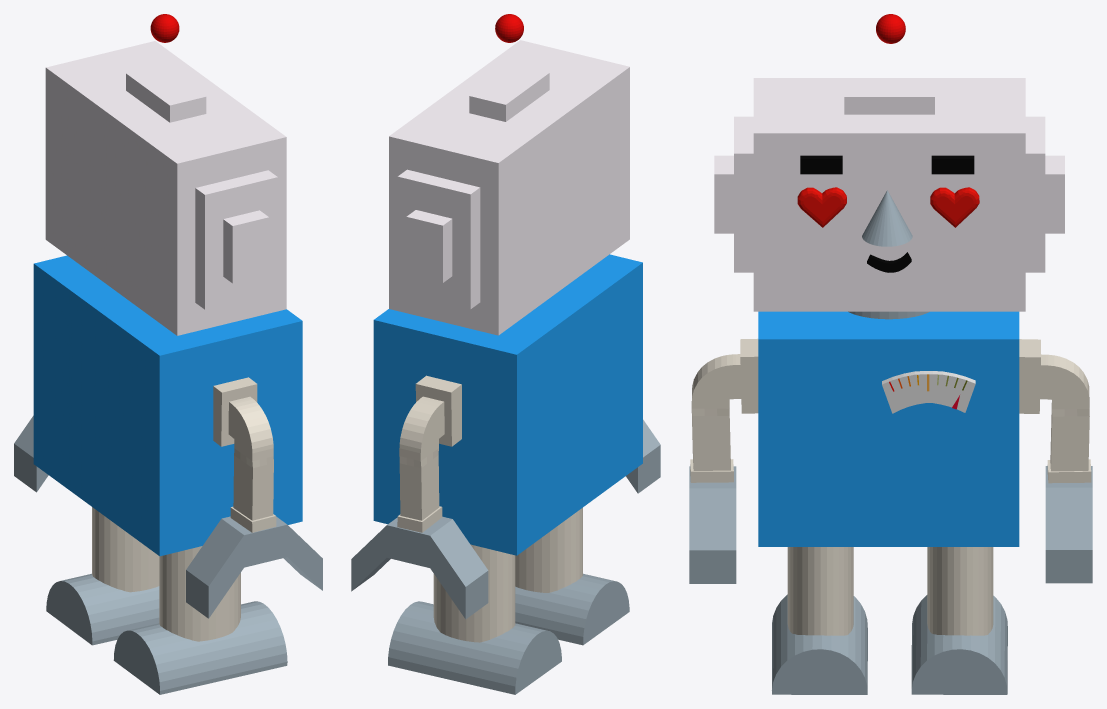
The model's file is robot3d.glb.
3 views of the same model, side by side, from view 1: azimuth 30°, elevation 25°; view 2: azimuth 150°, elevation 25°; view 3: azimuth 270°, elevation 25° (orthographic). The views are drawn at different scales.
Visible parts, largest first — view 1: 頭.001, 身體.001, 頭, 身體, 右鞋子, 右手臂, 右手, 左鞋子, 右腳, 左腳, 左手, 彈簧球; view 2: 頭, 身體, 頭.001, 身體.001, 左鞋子, 右手臂.001, 左手, 右鞋子, 左腳, 右腳, 右手, 彈簧球; view 3: 頭, 頭.001, 身體.001, 身體, 右手臂.001, 左鞋子, 右鞋子, 右手臂, 右腳, 左腳, 右手, 左手 (+7 smaller).
Boxes of the visible parts, x1,y1,x2,y2 form: 頭.001: (111, 80, 286, 335); 身體.001: (96, 301, 302, 556); 頭: (45, 41, 220, 287); 身體: (33, 255, 129, 509); 右鞋子: (113, 601, 287, 694); 右手臂: (213, 377, 276, 532); 右手: (186, 516, 322, 618); 左鞋子: (46, 573, 159, 645); 右腳: (159, 546, 240, 641); 左腳: (92, 507, 159, 592); 左手: (14, 415, 48, 492); 彈簧球: (150, 14, 179, 42); 頭: (389, 80, 564, 335); 身體: (373, 300, 579, 555); 頭.001: (455, 40, 629, 286); 身體.001: (547, 254, 642, 509); 左鞋子: (388, 601, 561, 694); 右手臂.001: (397, 375, 461, 532); 左手: (351, 516, 488, 619); 右鞋子: (515, 573, 629, 645); 左腳: (433, 544, 515, 642); 右腳: (515, 507, 582, 592); 右手: (626, 419, 660, 493); 彈簧球: (495, 14, 523, 42); 頭: (889, 78, 1064, 311); 頭.001: (714, 78, 889, 311); 身體.001: (758, 311, 888, 546); 身體: (888, 311, 1019, 546); 右手臂.001: (1019, 339, 1091, 483); 左鞋子: (911, 595, 1007, 694); 右鞋子: (772, 594, 867, 694); 右手臂: (690, 338, 758, 482); 右腳: (787, 547, 853, 635); 左腳: (927, 547, 993, 635); 右手: (689, 466, 736, 583); 左手: (1045, 466, 1092, 583).
Size of what is drawn, in the model's own units: 2.36 by 9.36 by 5.29.
